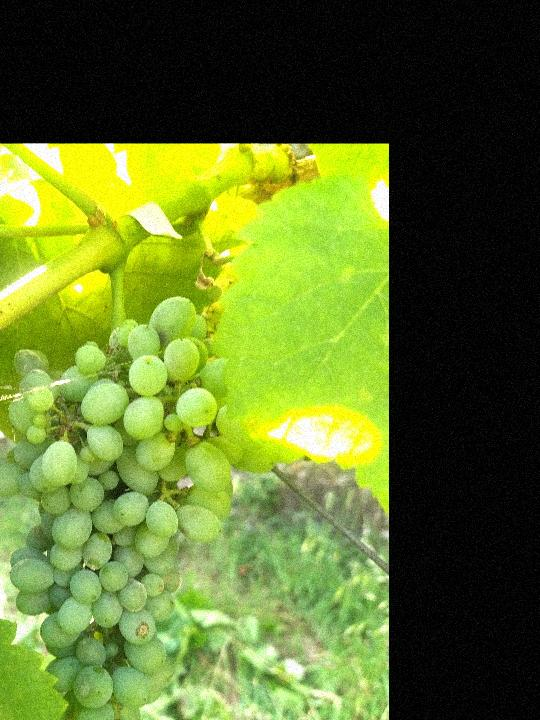grape: (1, 293, 243, 720)
